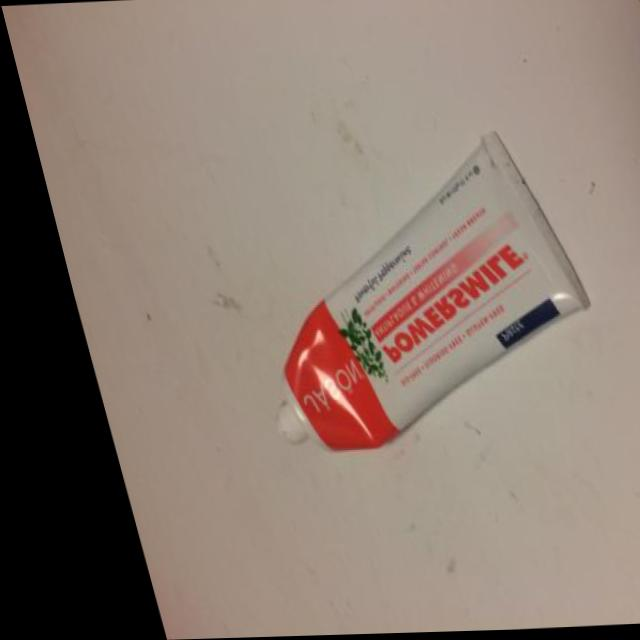trash: (108, 95, 640, 511)
